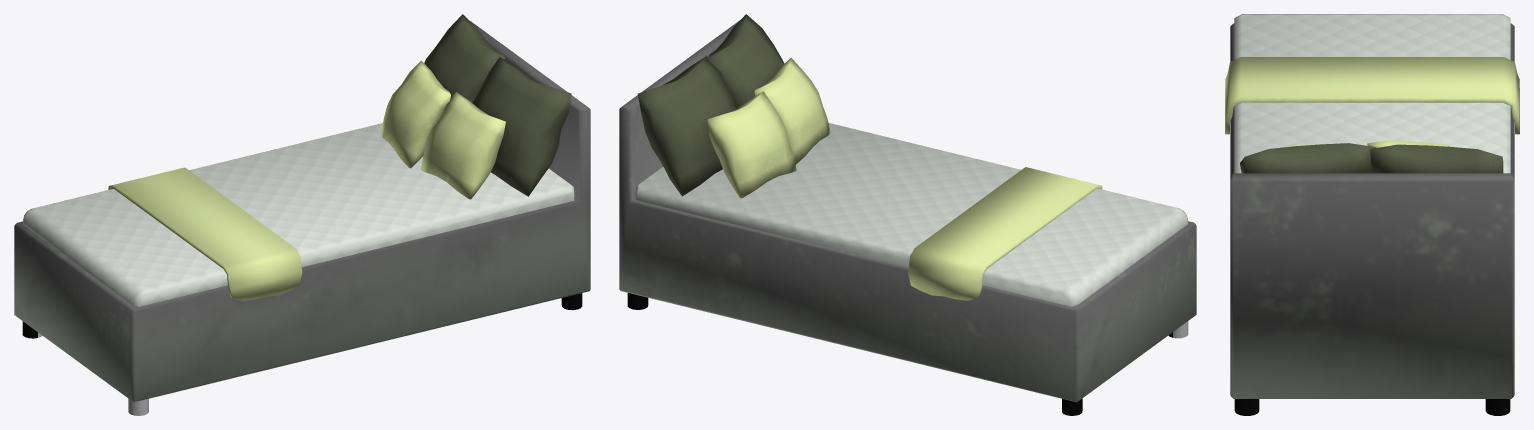
Rendered from mdl_Bett.fbx.
3 renders of one model, left to right at view 1: azimuth 30°, elevation 25°; view 2: azimuth 150°, elevation 25°; view 3: azimuth 270°, elevation 25°, orthographic. The views are drawn at different scales.
Visible parts, largest first — view 1: Bett.001; view 2: Bett.001; view 3: Bett.001.
Part boxes in pixels (x1,y1,x2,y2): Bett.001: (14, 14, 590, 415); Bett.001: (619, 14, 1196, 415); Bett.001: (1225, 14, 1519, 415).
Size of the model in its own units: 262 by 118 by 123.
